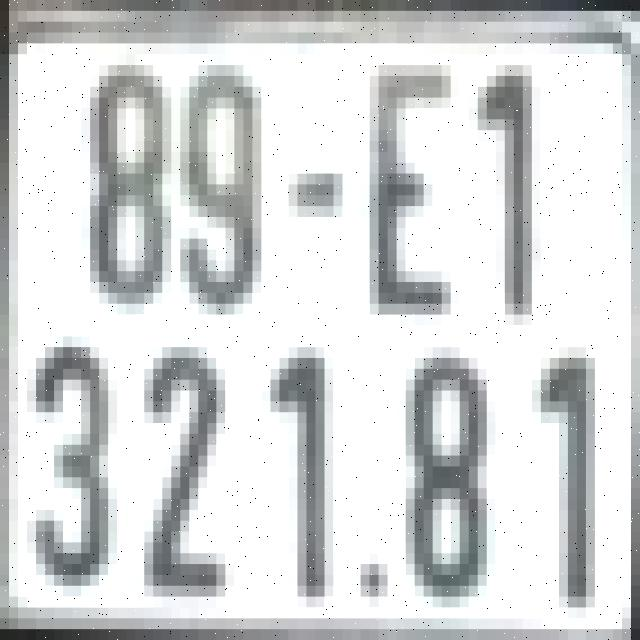1: (536, 352, 600, 613), (478, 65, 541, 315), (270, 353, 334, 591)
2: (140, 347, 230, 586)
3: (32, 342, 112, 580)
8: (410, 358, 491, 597), (90, 65, 171, 304)
9: (180, 65, 262, 304)
E: (370, 65, 460, 315)
